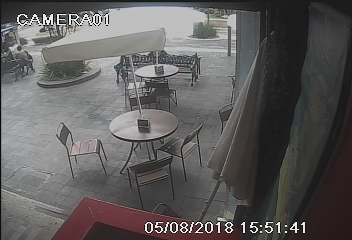libre: (54, 105, 209, 192), (116, 59, 183, 112)
